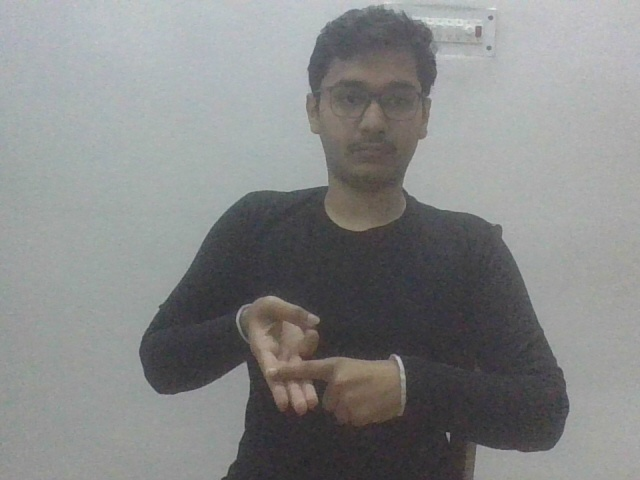E: (233, 291, 409, 429)
